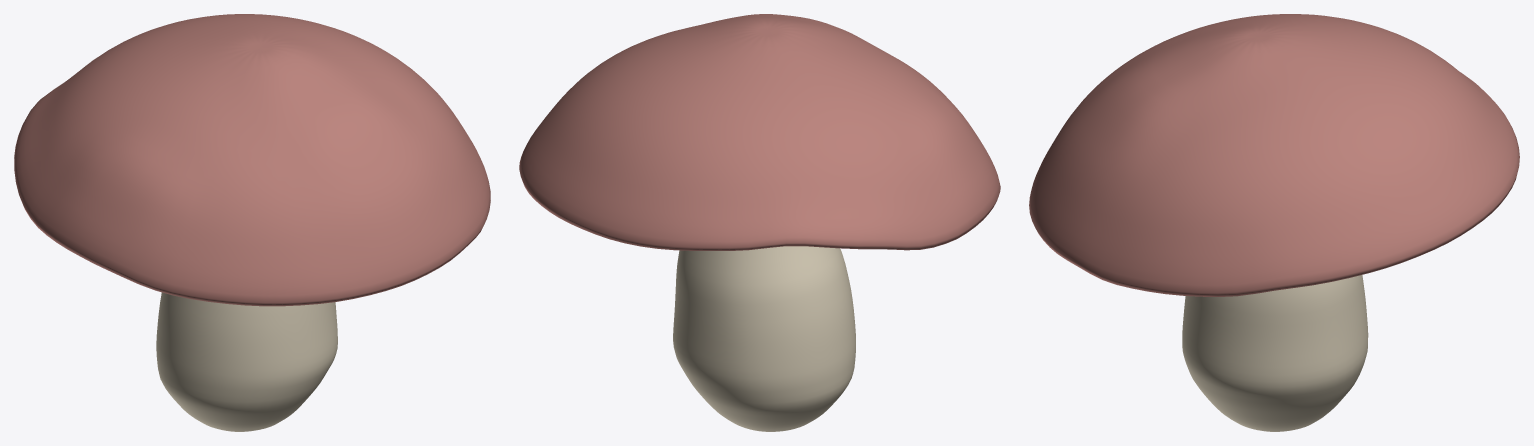
The model's file is Mushroom2.fbx.
3 renders of one model, left to right at view 1: azimuth 30°, elevation 25°; view 2: azimuth 150°, elevation 25°; view 3: azimuth 270°, elevation 25°, orthographic. The views are drawn at different scales.
Parts seen in each view (by area): view 1: Head, Base; view 2: Head, Base; view 3: Head, Base.
Part boxes in pixels (<box>): Head: <box>14,14,490,306</box>; Base: <box>156,292,337,431</box>; Head: <box>519,14,1000,250</box>; Base: <box>673,246,855,431</box>; Head: <box>1029,14,1519,296</box>; Base: <box>1182,275,1368,431</box>.
Size of the model in its own units: 3.48 by 2.98 by 3.46.
